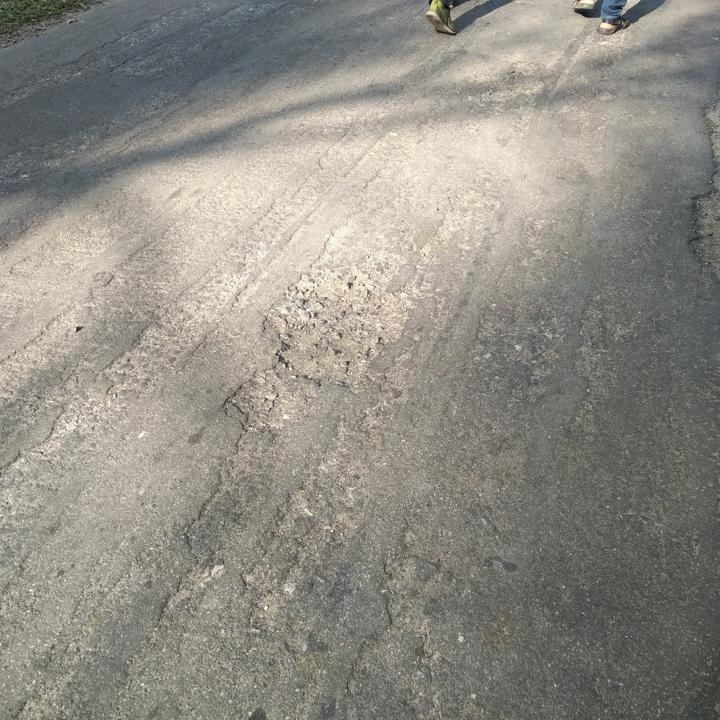pothole: (263, 268, 418, 383), (224, 372, 296, 429)
